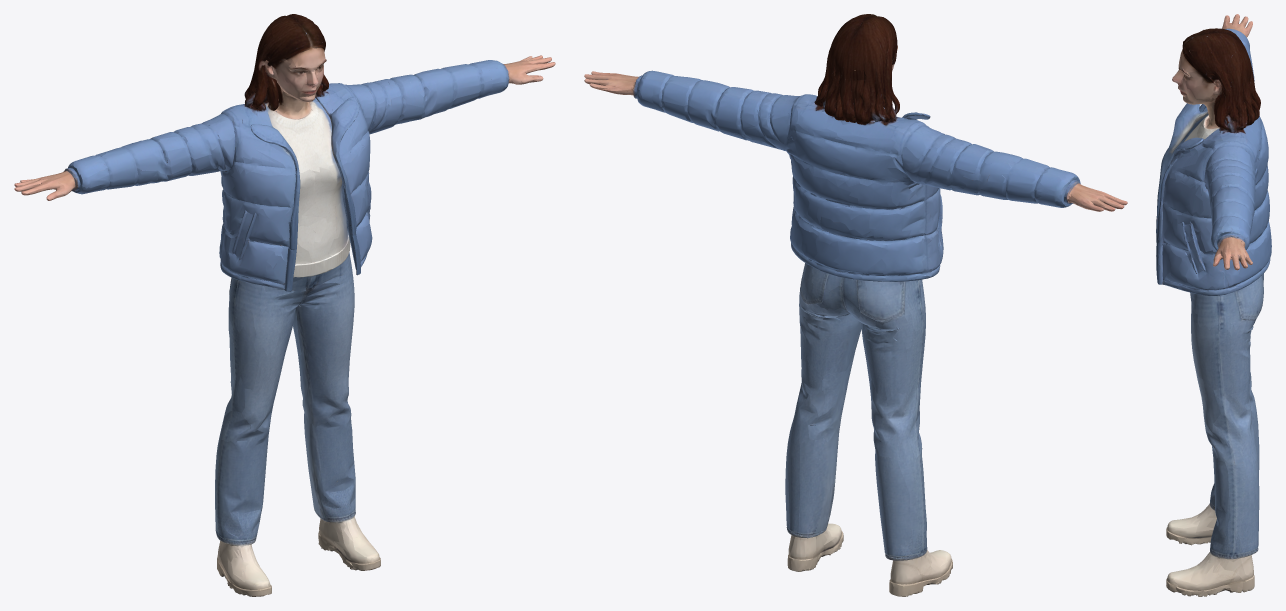
The model's file is character_n03_optimized.glb.
3 renders of one model, left to right at view 1: azimuth 30°, elevation 25°; view 2: azimuth 150°, elevation 25°; view 3: azimuth 270°, elevation 25°, orthographic. The views are drawn at different scales.
Parts seen in each view (by area): view 1: output_unwrapped; view 2: output_unwrapped; view 3: output_unwrapped.
Boxes of the visible parts, bbox=[...] form: output_unwrapped: bbox=[14, 14, 555, 596]; output_unwrapped: bbox=[584, 14, 1127, 596]; output_unwrapped: bbox=[1156, 14, 1271, 596].
Size of the model in its own units: 1.9 by 1.86 by 0.3661.
1 material, 1 textured.
